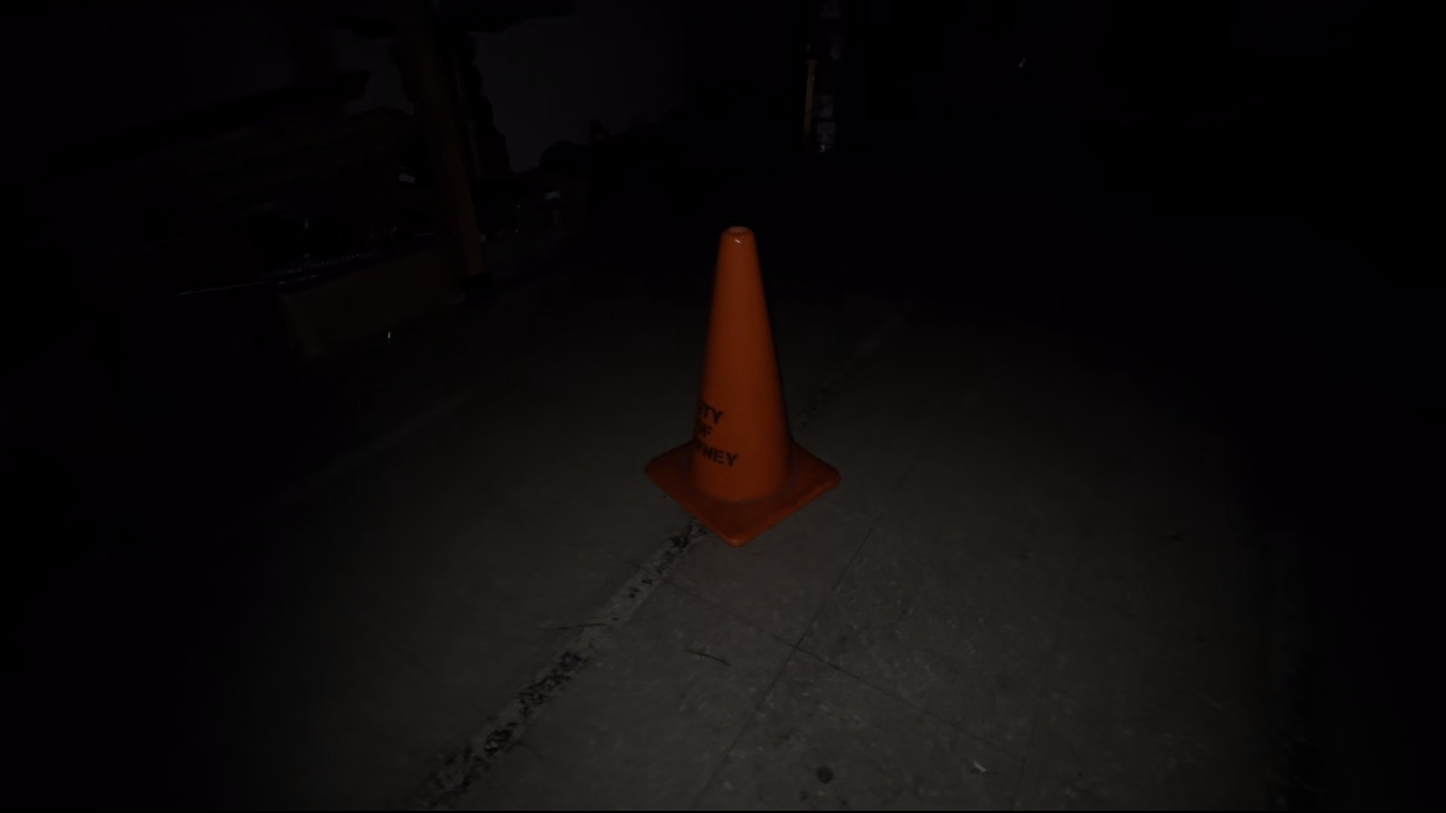traffic_cone: (643, 224, 842, 547)
